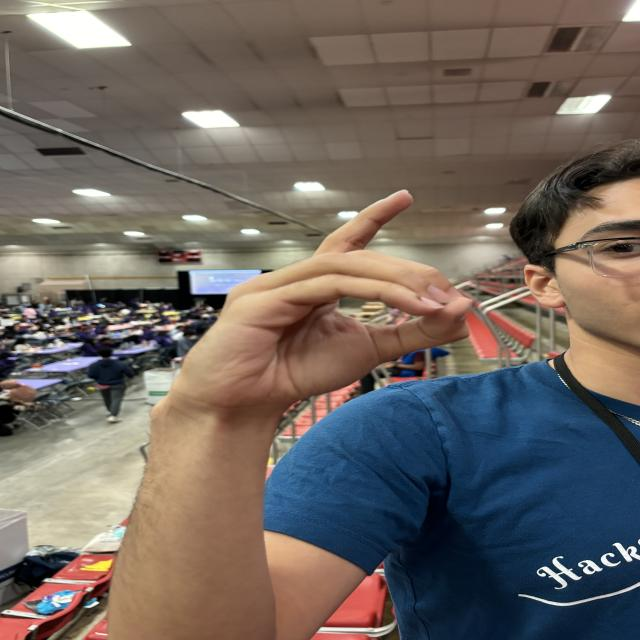D: (158, 185, 494, 410)
